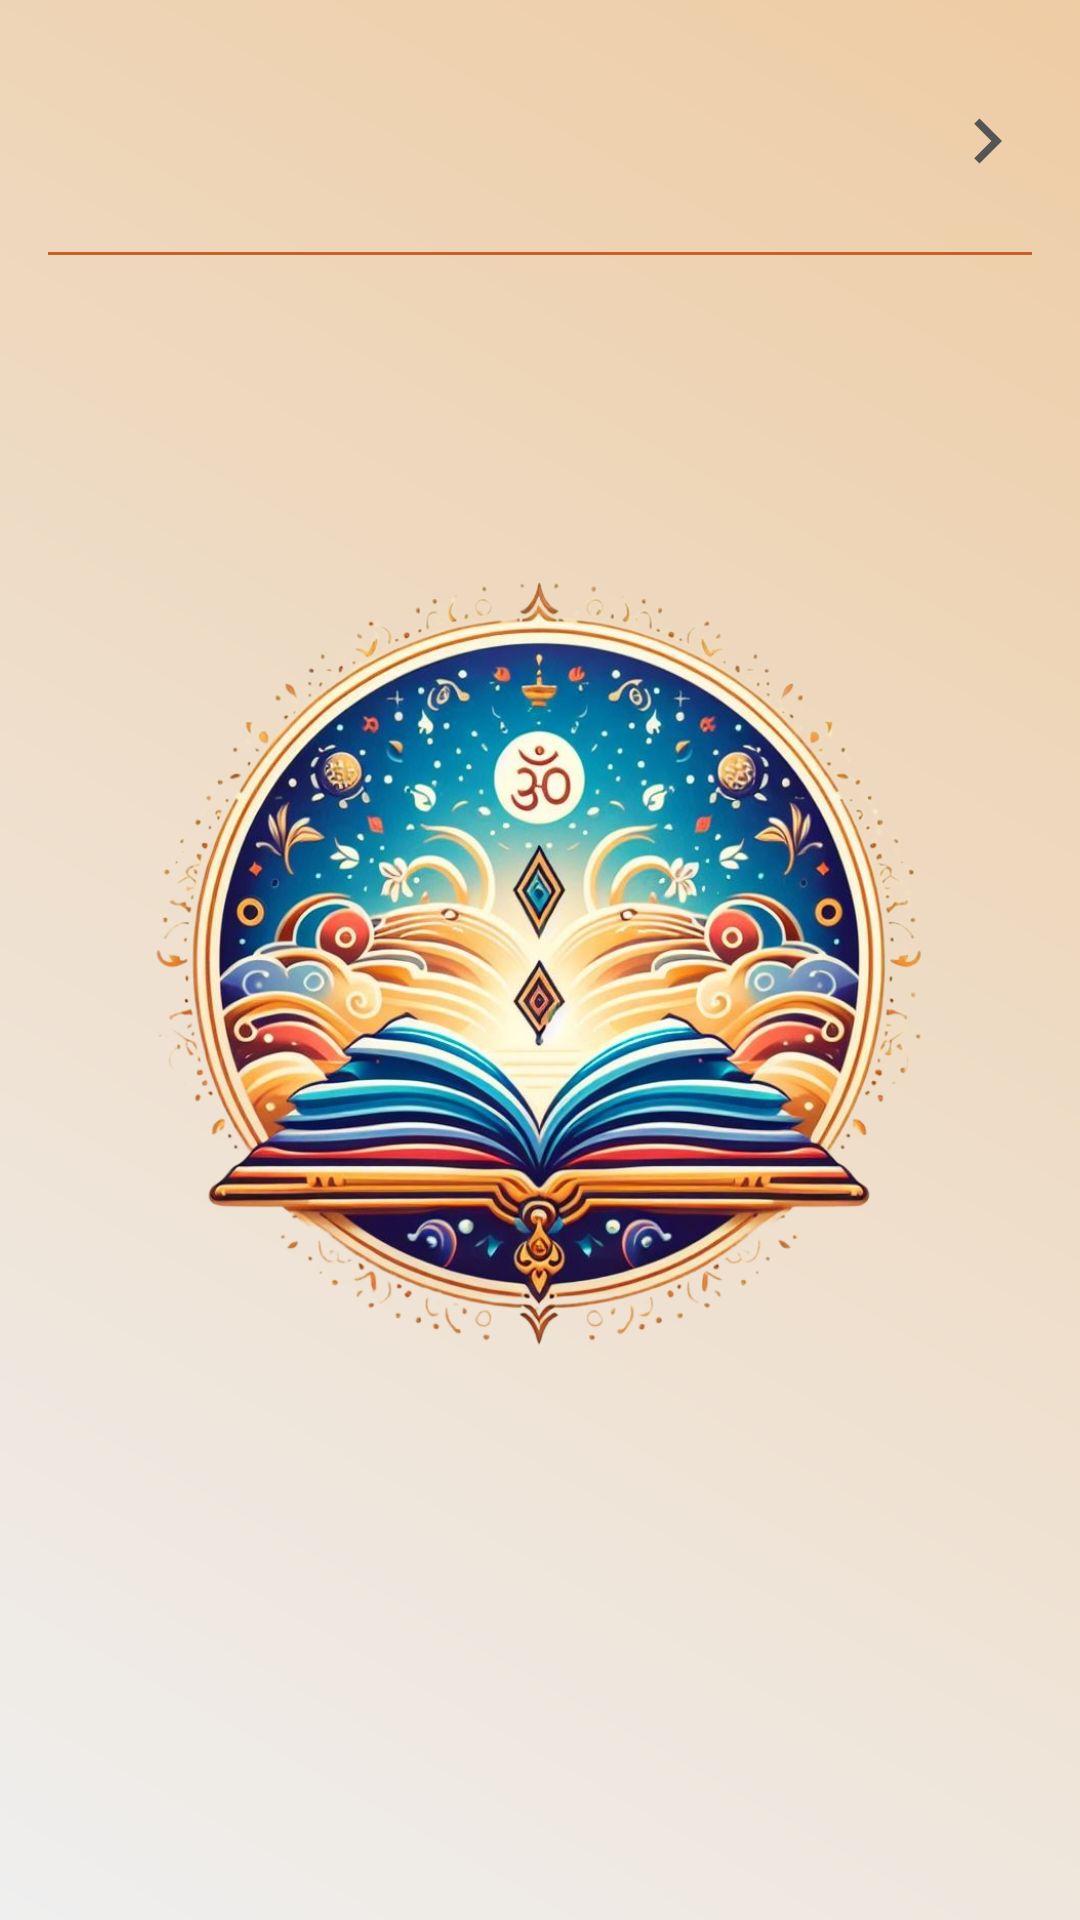

Icon click points for this 1080px x 1920px phone screenshot, format point (x, y):
keyboard arrow right: point (988, 141)
